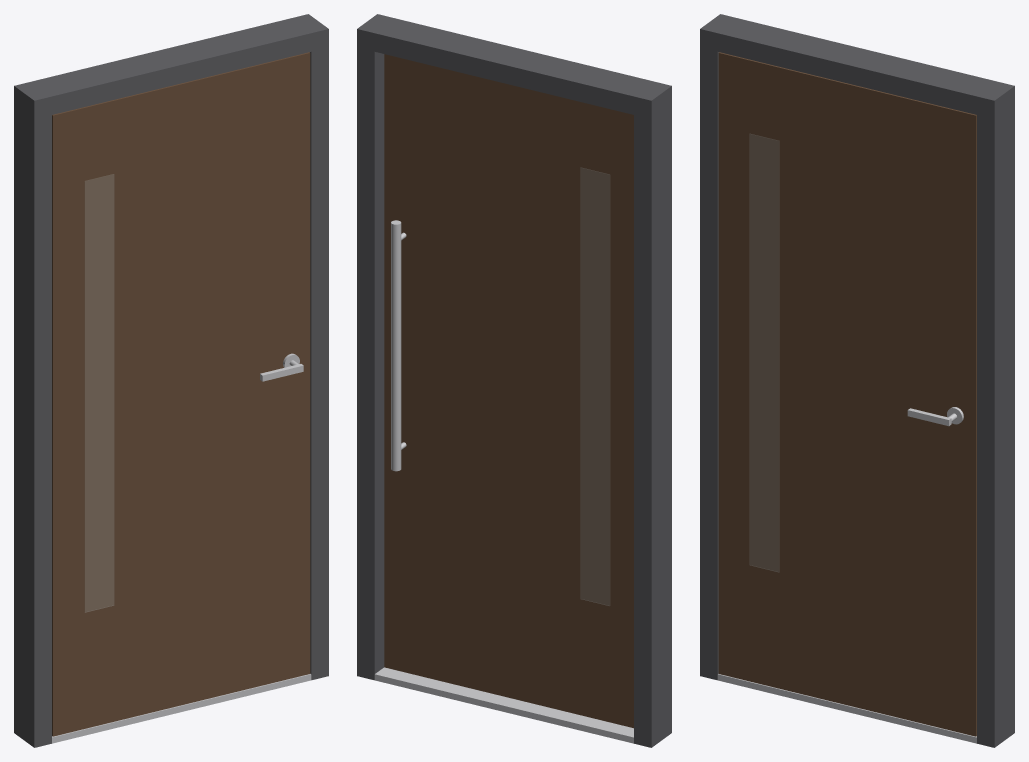
3 renders of one model, left to right at view 1: azimuth 30°, elevation 25°; view 2: azimuth 150°, elevation 25°; view 3: azimuth 330°, elevation 25°, orthographic.
Parts seen in each view (by area): view 1: Leaf, Frame, VisionPanel, Threshold, HandleFront; view 2: Leaf, Frame, VisionPanel, Threshold, PullBar; view 3: Leaf, Frame, VisionPanel, Threshold, HandleFront.
Boxes of the visible parts, x1,y1,x2,y2 form: Leaf: (52, 52, 310, 736); Frame: (14, 14, 328, 747); VisionPanel: (85, 174, 113, 612); Threshold: (52, 674, 311, 743); HandleFront: (260, 353, 303, 381); Leaf: (384, 54, 633, 728); Frame: (357, 14, 671, 747); VisionPanel: (581, 168, 609, 605); Threshold: (374, 667, 633, 743); PullBar: (391, 220, 406, 471); Leaf: (718, 52, 976, 736); Frame: (700, 14, 1014, 747); VisionPanel: (750, 134, 778, 571); Threshold: (717, 674, 976, 743); HandleFront: (907, 407, 963, 426).
Size of the model in its own units: 1 by 2.1 by 0.19.
